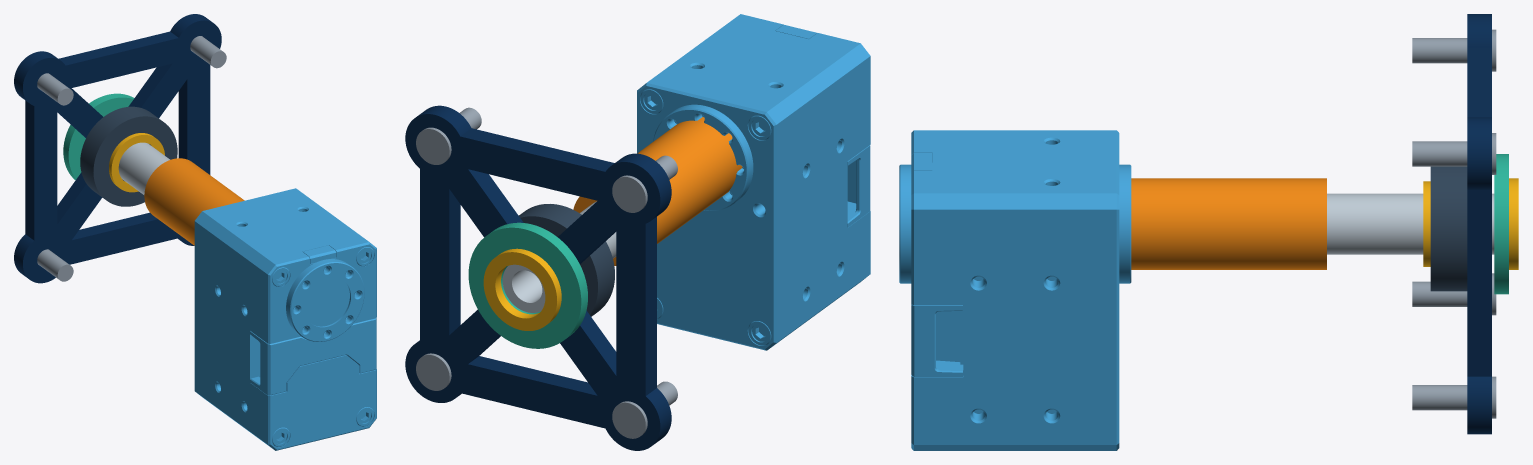
The model's file is JMF-04-MEDIUM_assembly.glb.
The picture shows the model from 3 angles, left to right: view 1: azimuth 30°, elevation 25°; view 2: azimuth 150°, elevation 25°; view 3: azimuth 270°, elevation 25°; orthographic projection. The views are drawn at different scales.
Parts seen in each view (by area): view 1: ACTUATOR, CARRIER_B, OUTPUT_COUPLER, BEARING_B, OUTPUT_SHAFT, OUTPUT_ENCODER_CARRIER, RETAINER_B, CARRIER_B_SCREW_22, CARRIER_B_SCREW_21, CARRIER_B_SCREW_12; view 2: ACTUATOR, CARRIER_B, OUTPUT_ENCODER_CARRIER, OUTPUT_COUPLER, OUTPUT_MAGNET_HUB, BEARING_B, OUTPUT_SHAFT, CARRIER_B_SCREW_22, CARRIER_B_SCREW_21, CARRIER_B_SCREW_12, CARRIER_B_SCREW_11; view 3: ACTUATOR, OUTPUT_COUPLER, CARRIER_B, OUTPUT_SHAFT, BEARING_B, OUTPUT_ENCODER_CARRIER, CARRIER_B_SCREW_11, CARRIER_B_SCREW_22, CARRIER_B_SCREW_12, CARRIER_B_SCREW_21, OUTPUT_MAGNET_HUB, RETAINER_B.
Part boxes in pixels (x1,y1,x2,y2): ACTUATOR: [194, 188, 376, 450]; CARRIER_B: [14, 14, 221, 283]; OUTPUT_COUPLER: [144, 158, 244, 245]; BEARING_B: [80, 106, 177, 206]; OUTPUT_SHAFT: [118, 142, 170, 194]; OUTPUT_ENCODER_CARRIER: [63, 93, 134, 179]; RETAINER_B: [109, 133, 164, 192]; CARRIER_B_SCREW_22: [37, 73, 73, 105]; CARRIER_B_SCREW_21: [37, 249, 73, 281]; CARRIER_B_SCREW_12: [190, 36, 226, 68]; ACTUATOR: [637, 14, 870, 350]; CARRIER_B: [405, 105, 671, 450]; OUTPUT_ENCODER_CARRIER: [468, 222, 587, 348]; OUTPUT_COUPLER: [573, 117, 742, 265]; OUTPUT_MAGNET_HUB: [483, 248, 561, 330]; BEARING_B: [519, 204, 614, 316]; OUTPUT_SHAFT: [502, 201, 616, 312]; CARRIER_B_SCREW_22: [612, 155, 677, 212]; CARRIER_B_SCREW_21: [612, 381, 677, 438]; CARRIER_B_SCREW_12: [416, 107, 481, 164]; CARRIER_B_SCREW_11: [416, 353, 451, 390]; ACTUATOR: [899, 130, 1131, 450]; OUTPUT_COUPLER: [1131, 178, 1326, 269]; CARRIER_B: [1467, 14, 1491, 434]; OUTPUT_SHAFT: [1327, 193, 1494, 254]; BEARING_B: [1430, 166, 1467, 291]; OUTPUT_ENCODER_CARRIER: [1494, 154, 1508, 294]; CARRIER_B_SCREW_11: [1412, 376, 1496, 418]; CARRIER_B_SCREW_22: [1412, 29, 1496, 71]; CARRIER_B_SCREW_12: [1412, 133, 1496, 174]; CARRIER_B_SCREW_21: [1412, 273, 1496, 315]; OUTPUT_MAGNET_HUB: [1509, 178, 1518, 269]; RETAINER_B: [1423, 181, 1430, 266].
Bounding box in the file's own units: 51.99 × 63.24 × 101.
